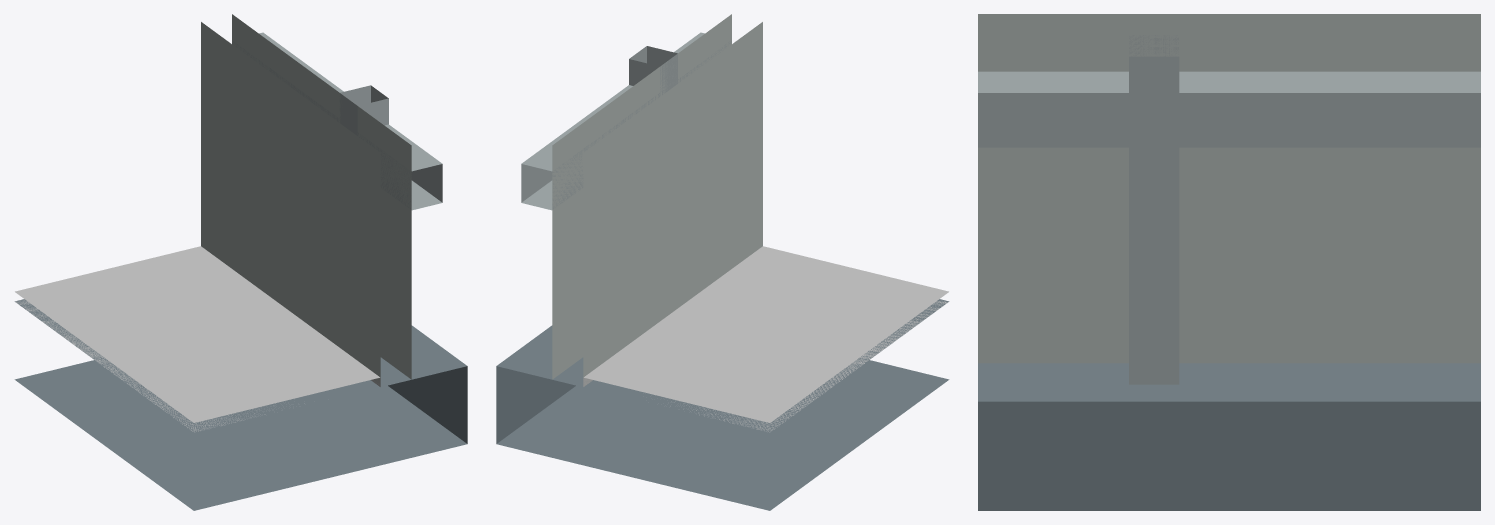
Rendered from cell_34.obj.
The picture shows the model from 3 angles, left to right: view 1: azimuth 30°, elevation 25°; view 2: azimuth 150°, elevation 25°; view 3: azimuth 270°, elevation 25°; orthographic projection. The views are drawn at different scales.
Bounding box in the file's own units: 0.88 × 0.96 × 1.
